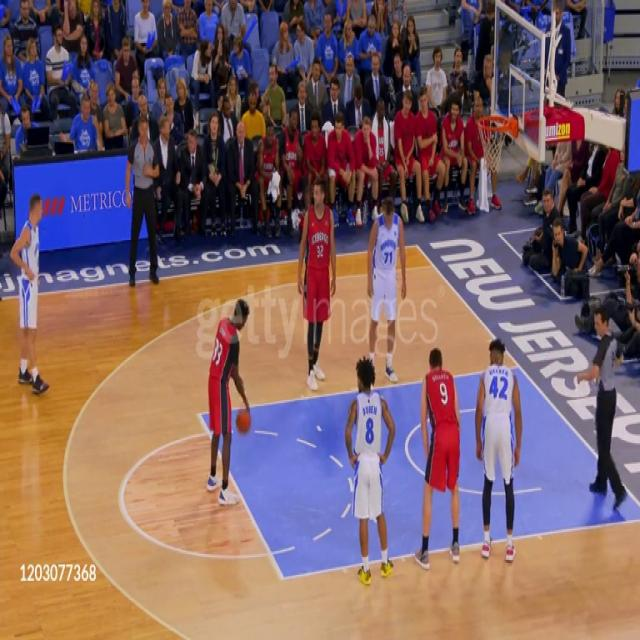ball: (235, 407, 252, 434)
